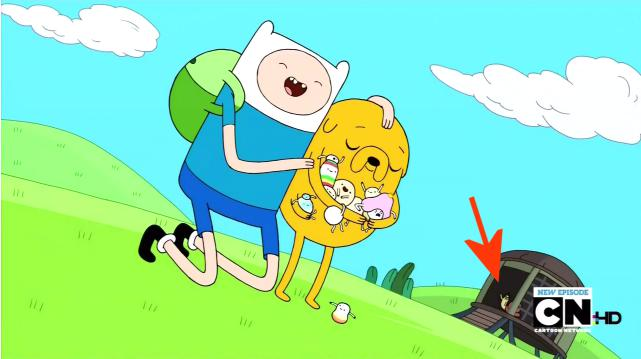snail: (499, 290, 522, 317)
